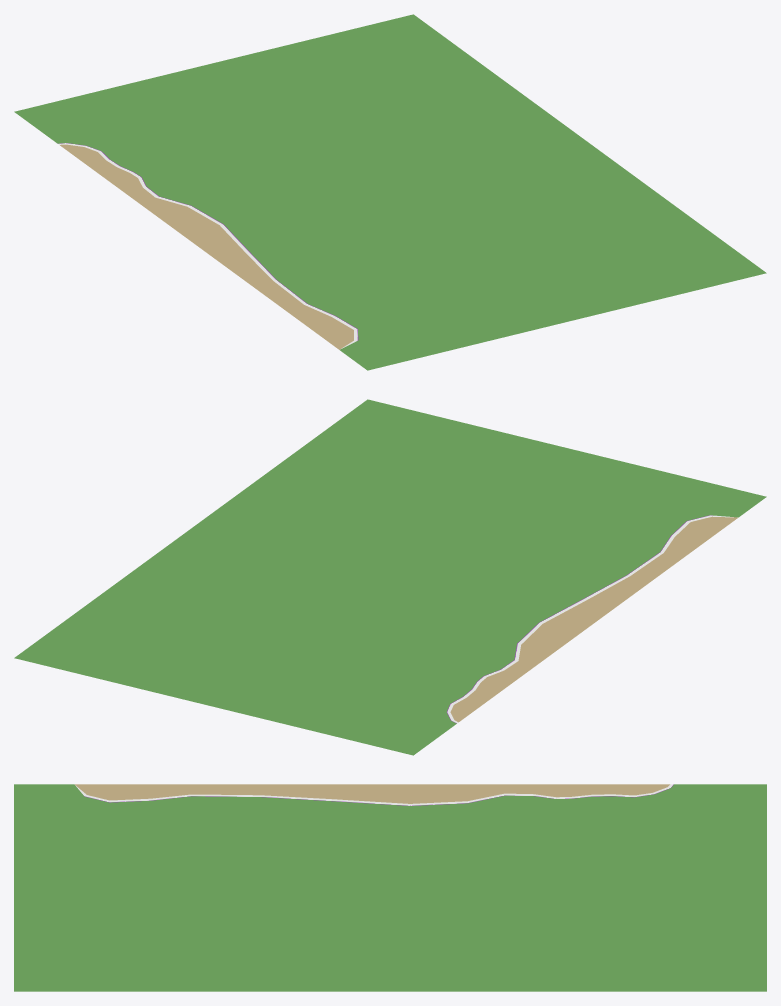
Rendered from start02.FBX.
3 views of the same model, one above another, from view 1: azimuth 30°, elevation 25°; view 2: azimuth 150°, elevation 25°; view 3: azimuth 270°, elevation 25° (orthographic). The views are drawn at different scales.
Parts seen in each view (by area): view 1: start02; view 2: start02; view 3: start02.
Part boxes in pixels (x1,y1,x2,y2): start02: (14, 14, 766, 370); start02: (14, 399, 766, 755); start02: (14, 784, 766, 991).
Bounding box in the file's own units: 14313 × 0.5453 × 21939.
